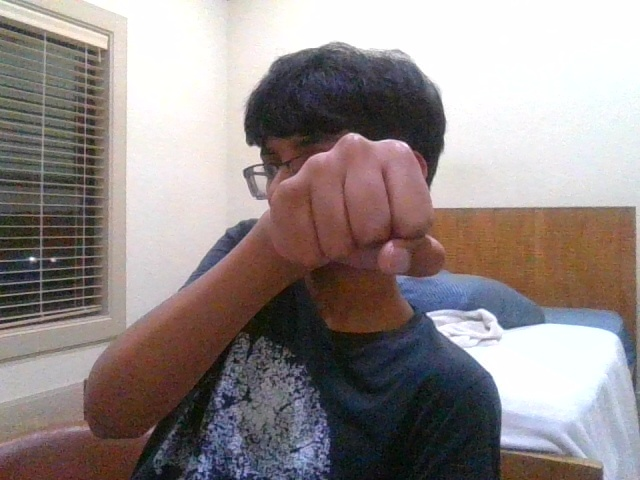yes: (269, 133, 445, 278)
